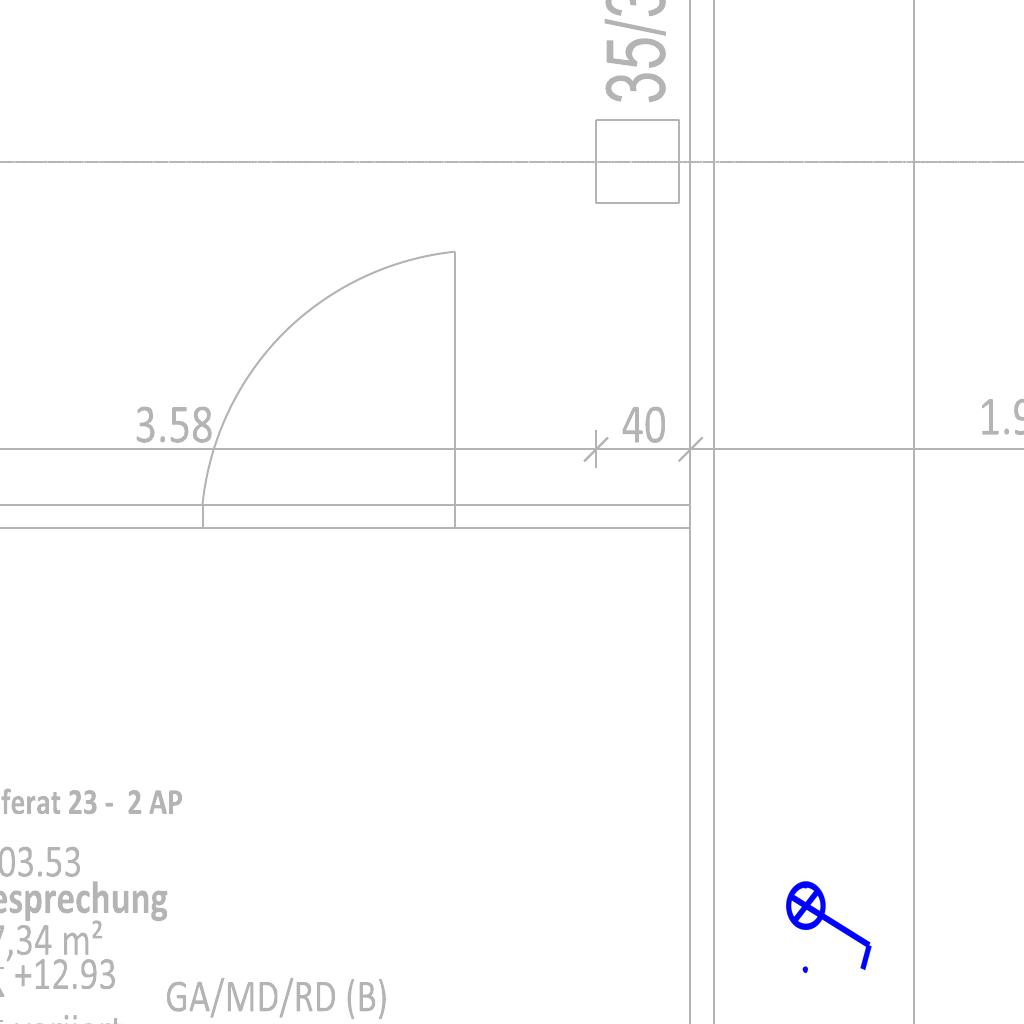Ausschalter_beleuchtet: (784, 867, 880, 979)
